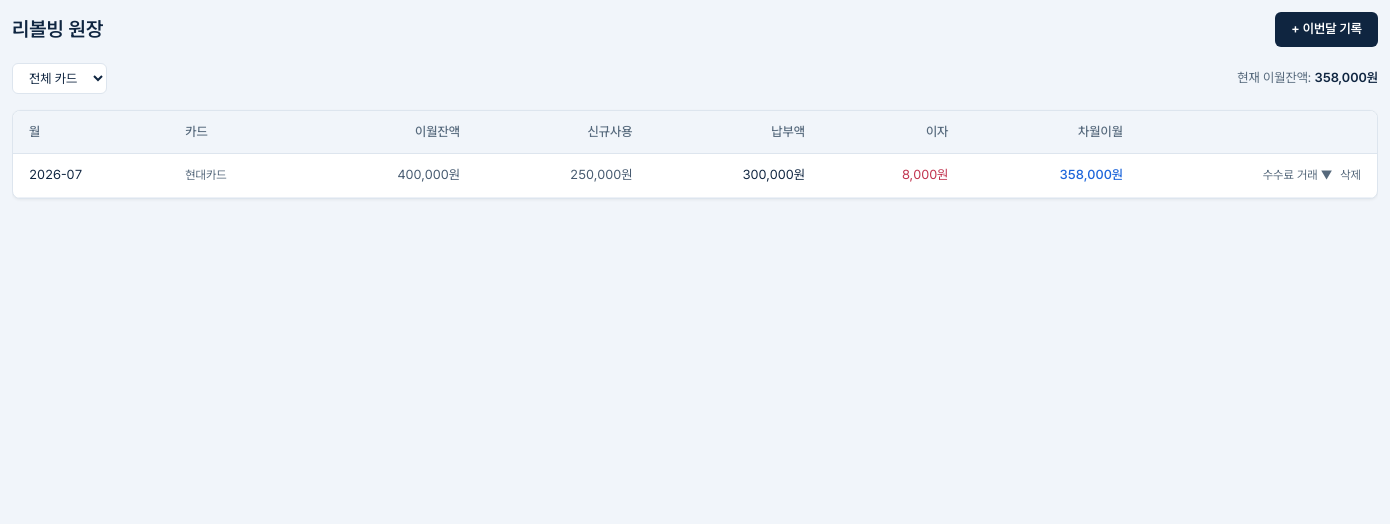
Scenario: 월 기록 등록 › 메시지 없는 실패에도 사유를 띄운다
Click the button "+ 이번달 기록". click: (1327,29)
box: [1275,12,1378,47]
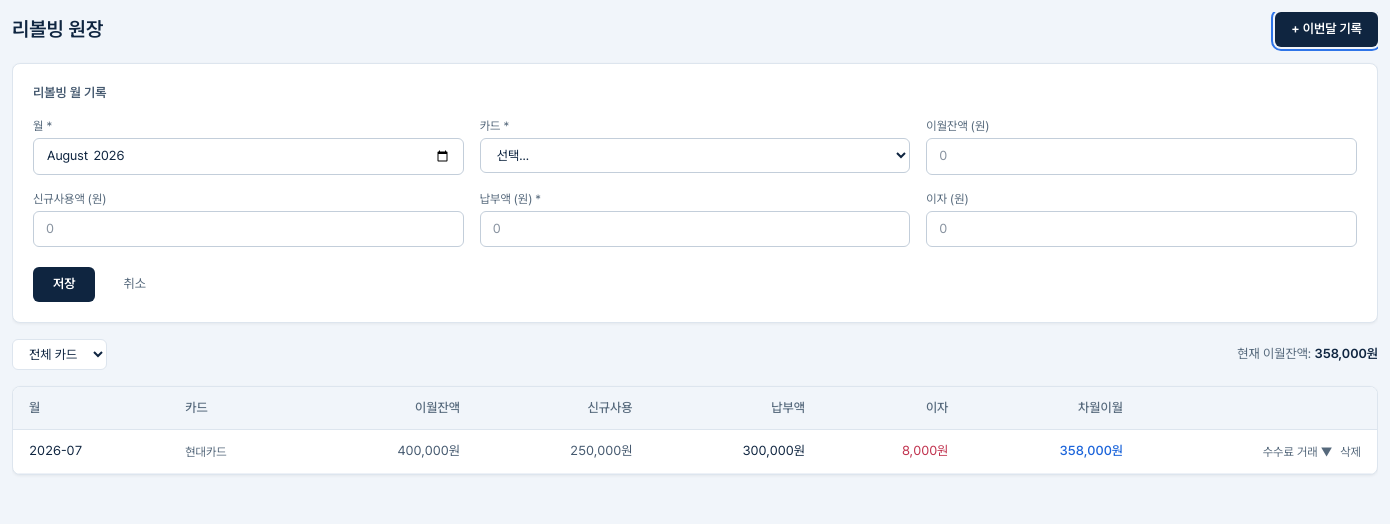
Select "현대카드" in the dropdown labelled "카드 *". click: (695,156)
box: [480,138,910,173]
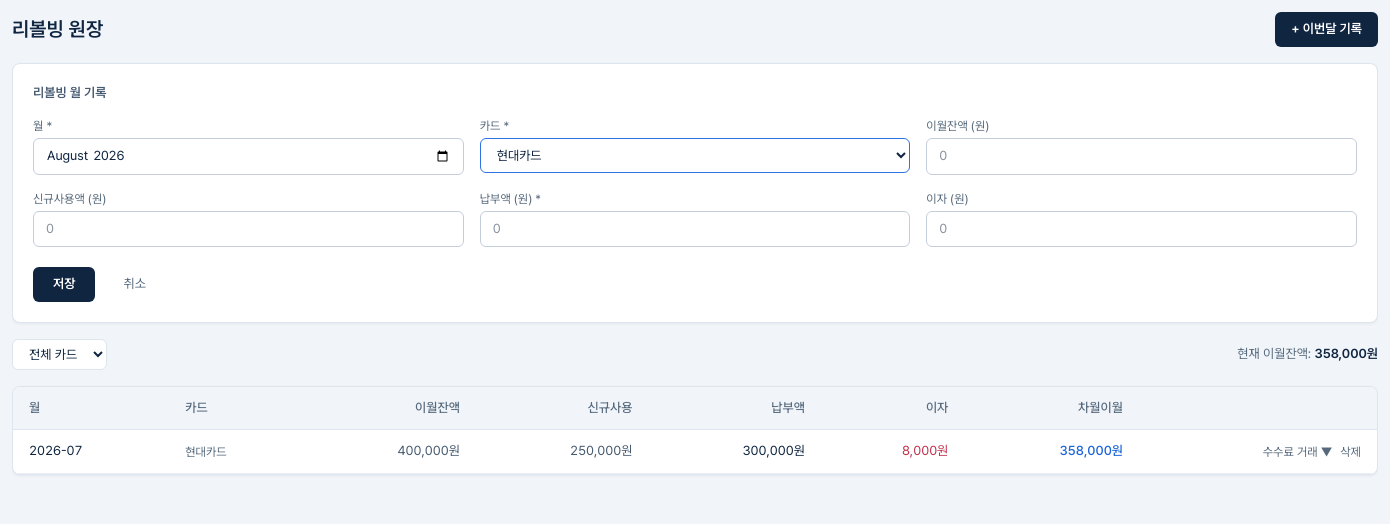
Type "100000" into the number field labelled "납부액 (원) *". click: (695,229)
box: [480,211,910,247]
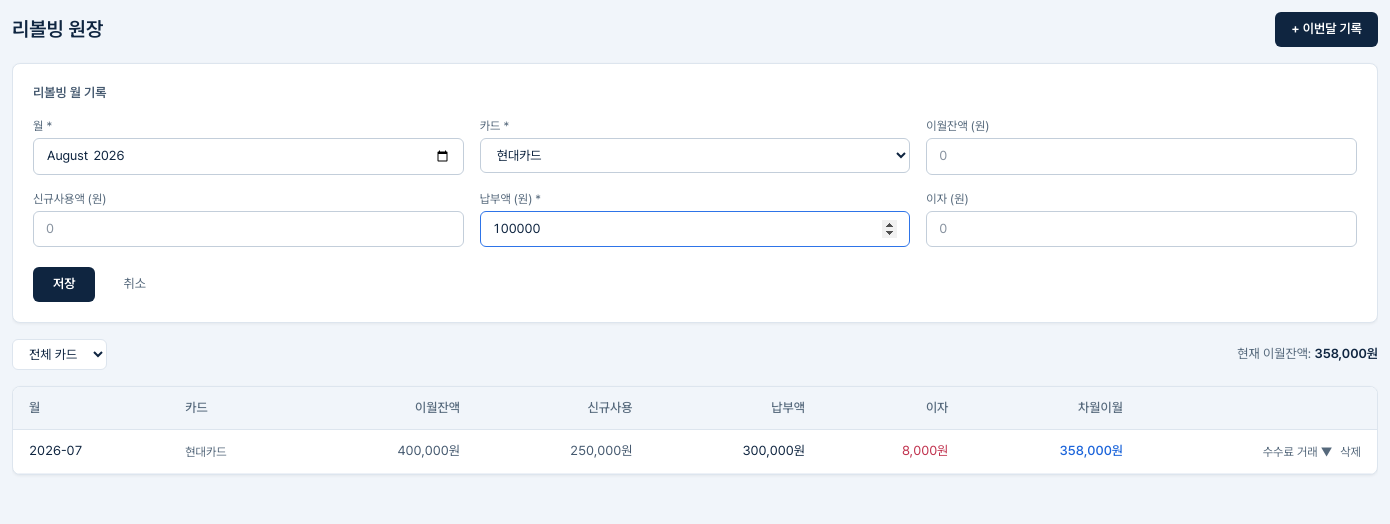
Click the button "저장". click: (64,285)
box: [33,267,96,302]
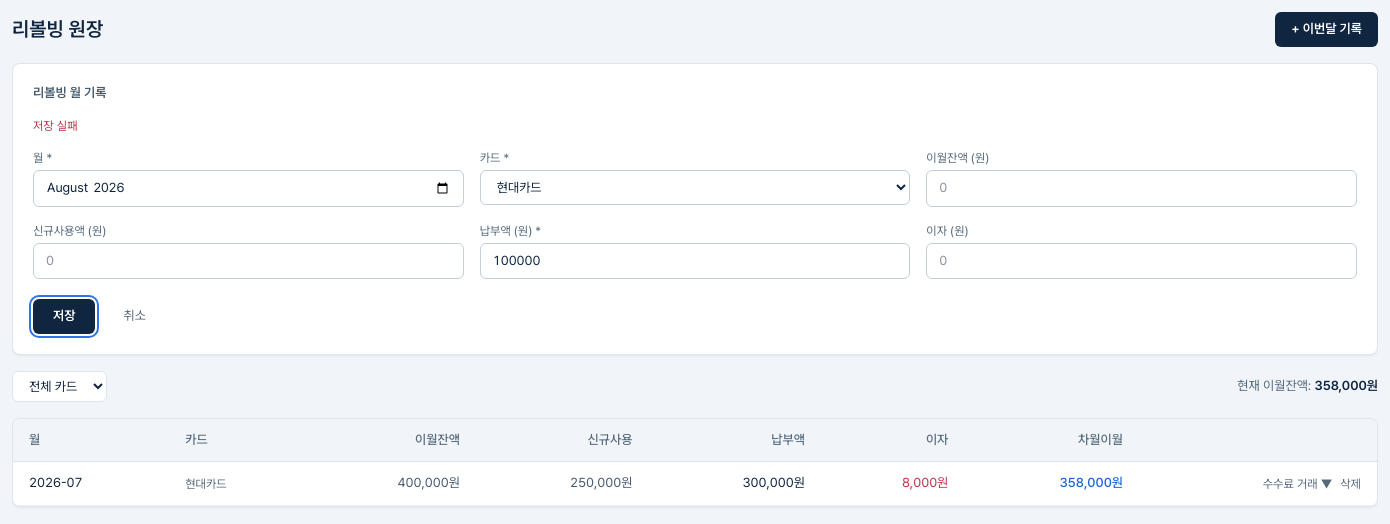
Result: the text "저장 실패" is shown at [33,119,78,133]
